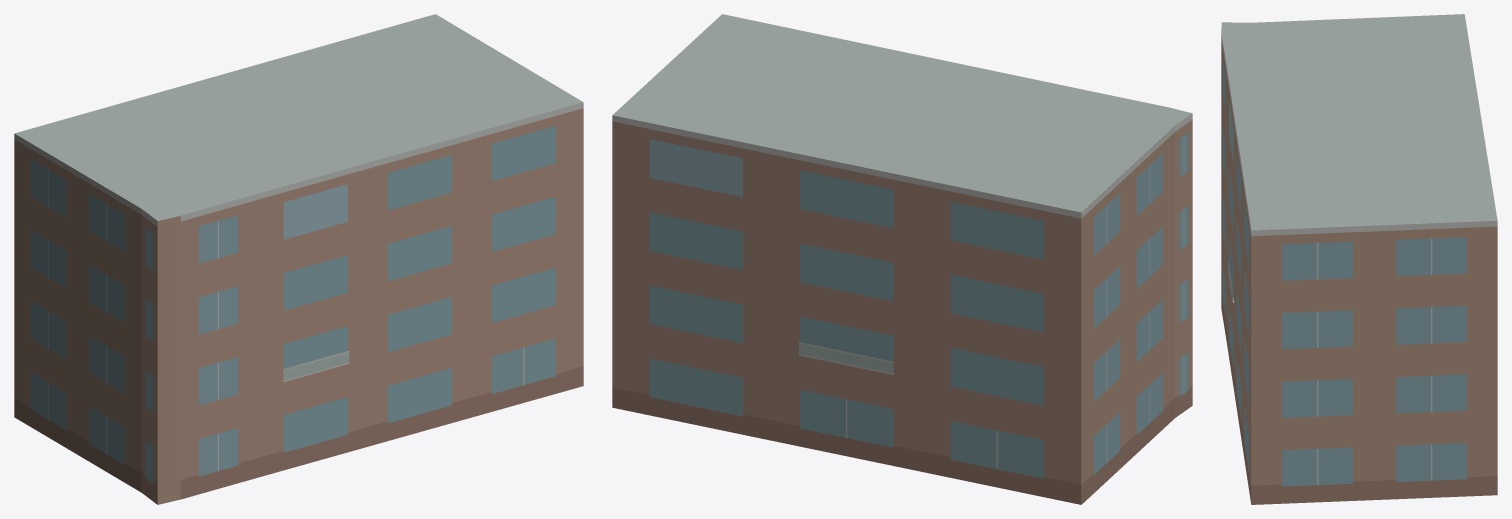
File: survey-upis-32756422.glb
The picture shows the model from 3 angles, left to right: view 1: azimuth 30°, elevation 25°; view 2: azimuth 150°, elevation 25°; view 3: azimuth 270°, elevation 25°; orthographic projection. The views are drawn at different scales.
Parts seen in each view (by area): view 1: survey-upis-32756422.tmp; view 2: survey-upis-32756422.tmp; view 3: survey-upis-32756422.tmp.
Boxes of the visible parts, x1,y1,x2,y2 form: survey-upis-32756422.tmp: [14, 14, 583, 504]; survey-upis-32756422.tmp: [612, 14, 1192, 504]; survey-upis-32756422.tmp: [1221, 14, 1497, 504].
Size of the model in its own units: 19.73 by 11.65 by 10.65.
